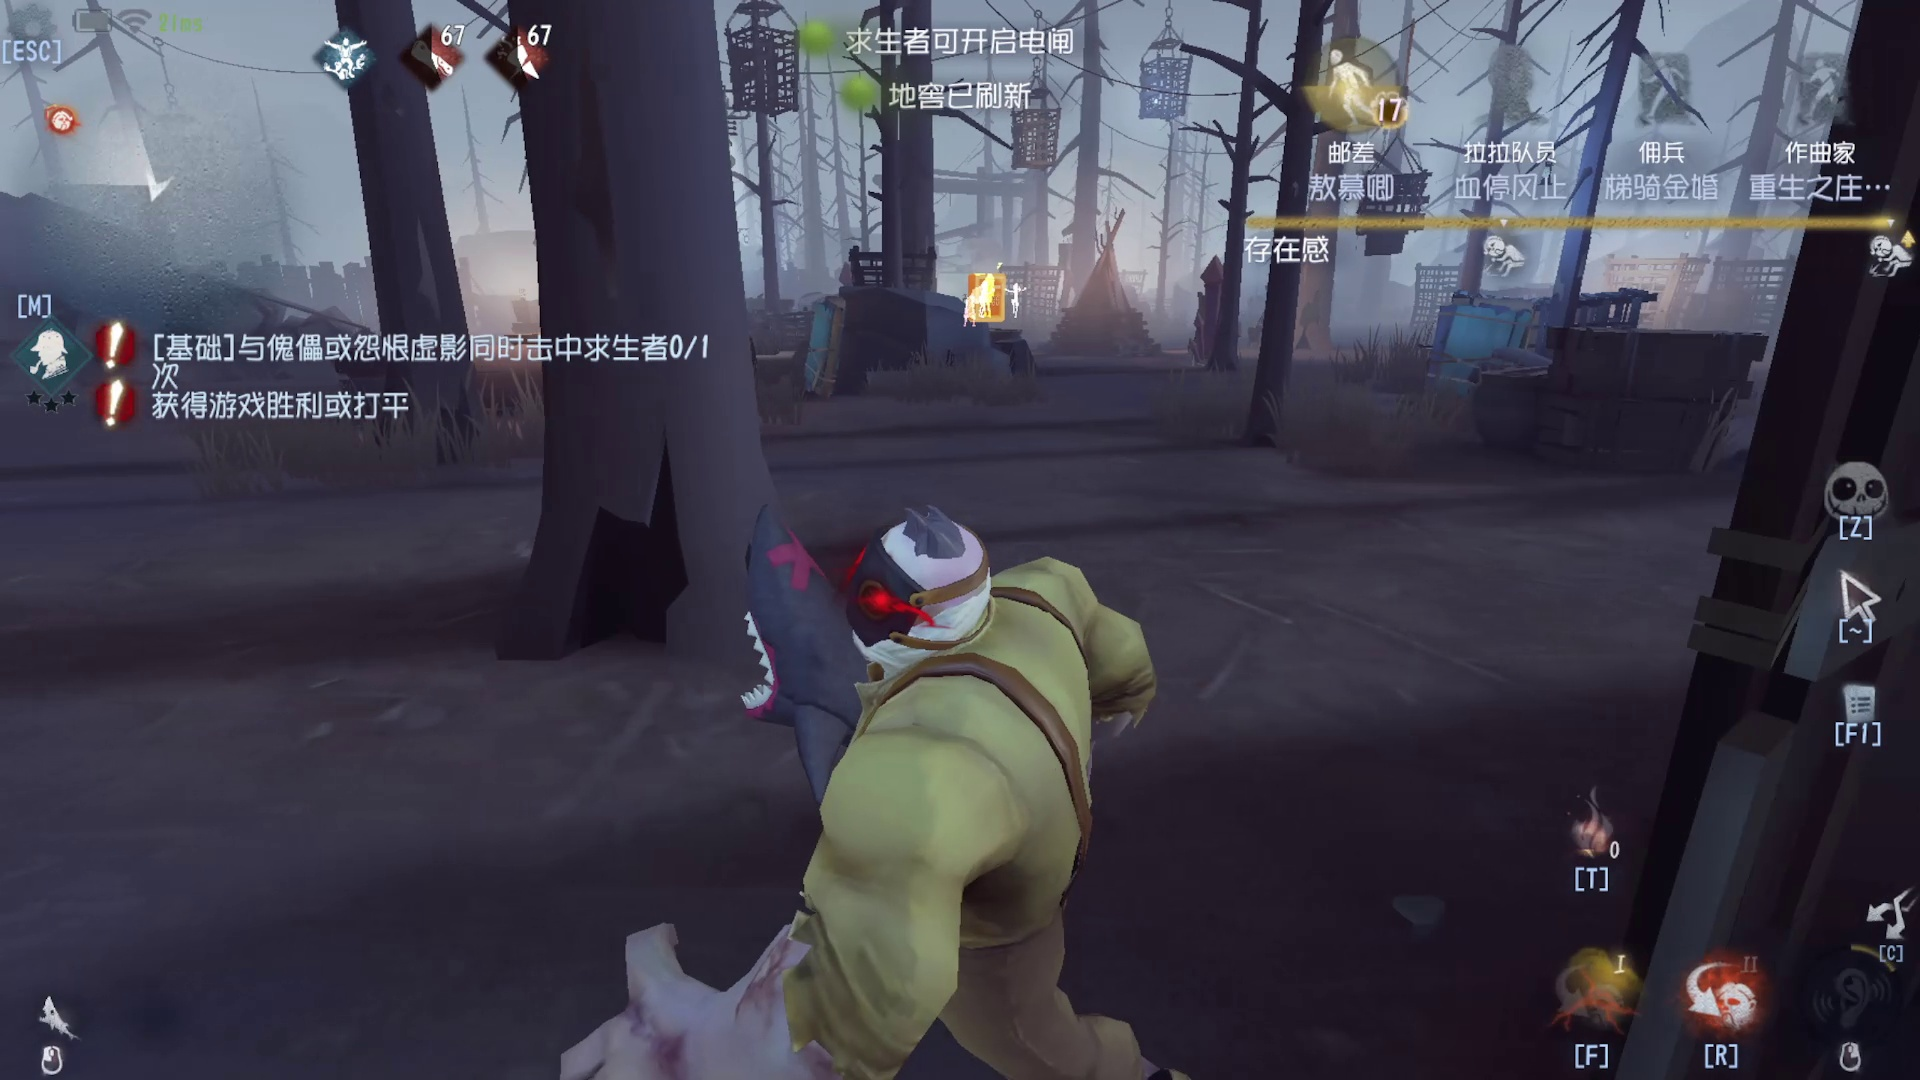木板: (1402, 272, 1560, 427), (781, 278, 860, 404)
狂欢之椅: (1174, 249, 1254, 356)
设置: (1, 1, 78, 86)
